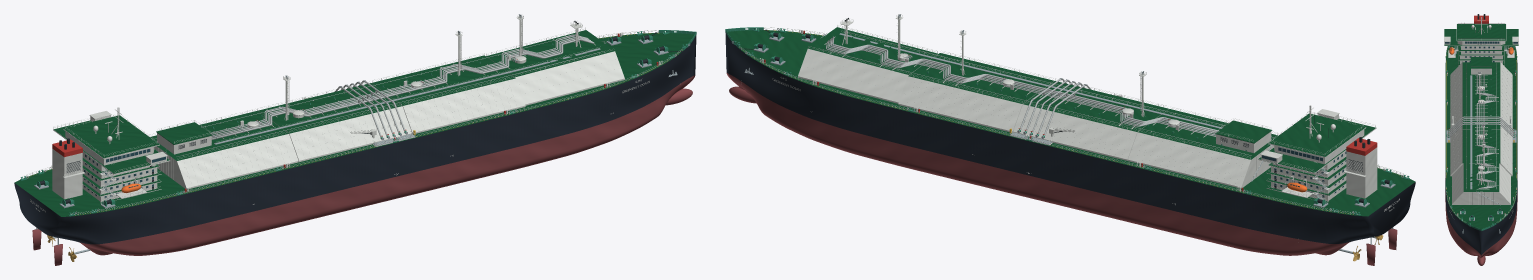
File: lng-changheng-ship-lod1.glb
3 views of the same model, side by side, from view 1: azimuth 30°, elevation 25°; view 2: azimuth 150°, elevation 25°; view 3: azimuth 270°, elevation 25° (orthographic). The views are drawn at different scales.
Visible parts, largest first — view 1: Hull.shell, Cargo.Tank2.trunk, Cargo.Tank4.trunk, Cargo.Tank3.trunk, Cargo.Tank1.trunk, Piping.insulated-main-lines, House.external-decks, House.structure, Deck.perimeter-rails, Piping.grating-supports, Cargo.roof-rails, House.deck-overhangs (+13 smaller); view 2: Hull.shell, Cargo.Tank2.trunk, Cargo.Tank4.trunk, Cargo.Tank3.trunk, Cargo.Tank1.trunk, Piping.insulated-main-lines, House.external-decks, House.structure, Deck.perimeter-rails, Piping.grating-supports, Cargo.roof-rails, House.deck-overhangs (+12 smaller); view 3: Hull.shell, Cargo.Tank1.trunk, Cargo.Tank2.trunk, Cargo.Tank3.trunk, Cargo.Tank4.trunk, Piping.insulated-main-lines, House.external-decks, House.structure, House.deck-overhangs, Piping.grating-supports, Deck.perimeter-rails, Cargo.compressor-roof (+17 smaller).
Part boxes in pixels (bbox=[...]): Hull.shell: bbox=[14, 32, 696, 255]; Cargo.Tank2.trunk: bbox=[371, 55, 525, 133]; Cargo.Tank4.trunk: bbox=[150, 111, 298, 189]; Cargo.Tank3.trunk: bbox=[258, 83, 412, 162]; Cargo.Tank1.trunk: bbox=[486, 30, 624, 105]; Piping.insulated-main-lines: bbox=[153, 33, 602, 156]; House.external-decks: bbox=[53, 115, 169, 203]; House.structure: bbox=[82, 115, 166, 201]; Deck.perimeter-rails: bbox=[20, 20, 682, 214]; Piping.grating-supports: bbox=[214, 48, 600, 146]; Cargo.roof-rails: bbox=[148, 27, 612, 159]; House.deck-overhangs: bbox=[49, 111, 170, 200]; Hull.shell: bbox=[725, 30, 1415, 255]; Cargo.Tank2.trunk: bbox=[898, 53, 1053, 132]; Cargo.Tank4.trunk: bbox=[1128, 109, 1277, 188]; Cargo.Tank3.trunk: bbox=[1013, 81, 1168, 160]; Cargo.Tank1.trunk: bbox=[798, 27, 937, 103]; Piping.insulated-main-lines: bbox=[821, 31, 1274, 155]; House.external-decks: bbox=[1259, 113, 1375, 202]; House.structure: bbox=[1261, 113, 1346, 201]; Deck.perimeter-rails: bbox=[739, 18, 1409, 214]; Piping.grating-supports: bbox=[839, 33, 1222, 144]; Cargo.roof-rails: bbox=[808, 25, 1280, 178]; House.deck-overhangs: bbox=[1258, 109, 1379, 199]; Hull.shell: bbox=[1445, 46, 1517, 265]; Cargo.Tank1.trunk: bbox=[1452, 163, 1510, 204]; Cargo.Tank2.trunk: bbox=[1450, 129, 1512, 176]; Cargo.Tank3.trunk: bbox=[1450, 95, 1512, 141]; Cargo.Tank4.trunk: bbox=[1450, 62, 1512, 107]; Piping.insulated-main-lines: bbox=[1447, 63, 1515, 188]; House.external-decks: bbox=[1444, 24, 1518, 65]; House.structure: bbox=[1444, 42, 1518, 63]; House.deck-overhangs: bbox=[1444, 24, 1518, 65]; Piping.grating-supports: bbox=[1446, 75, 1516, 189]; Deck.perimeter-rails: bbox=[1445, 46, 1517, 222]; Cargo.compressor-roof: bbox=[1470, 57, 1492, 68].
Size of the model in its own units: 299 by 58.45 by 48.2.
17 materials, 5 textured.
